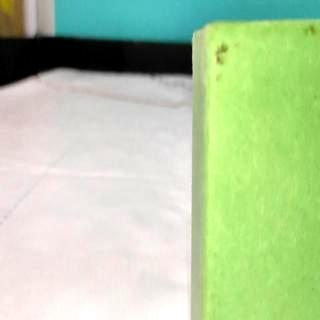greenbox: (186, 13, 320, 320)
